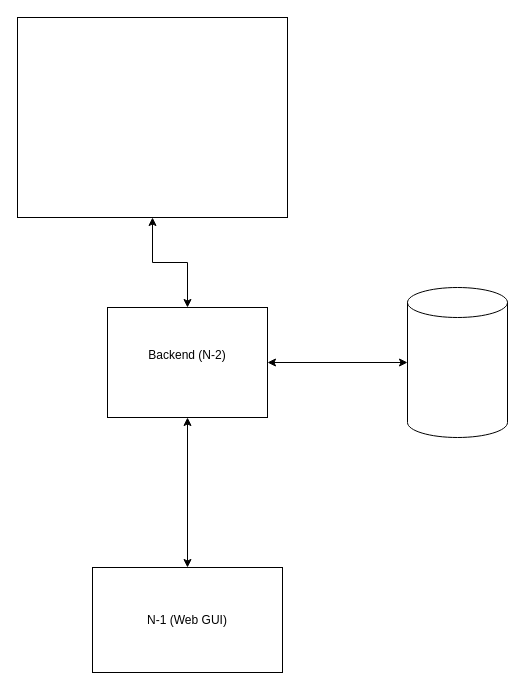
This 525x690 diagram has some shape labels left out. Each missing label, with the centre of its shape:
"DB" goes at pixel 457 362.
"N-5 (viewer) Shows graph and allows to edit contents" goes at pixel 152 117.
